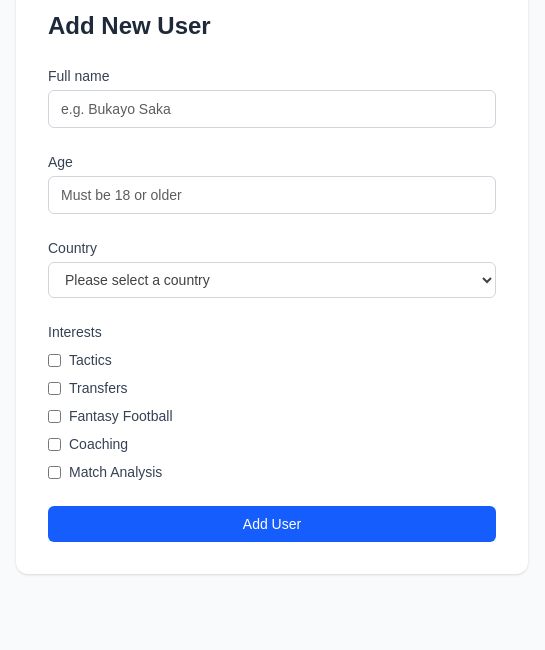
AddUserPage › shows validation errors when submitted empty
Click the button "Add User" at point(272, 524), box [48, 506, 496, 542]
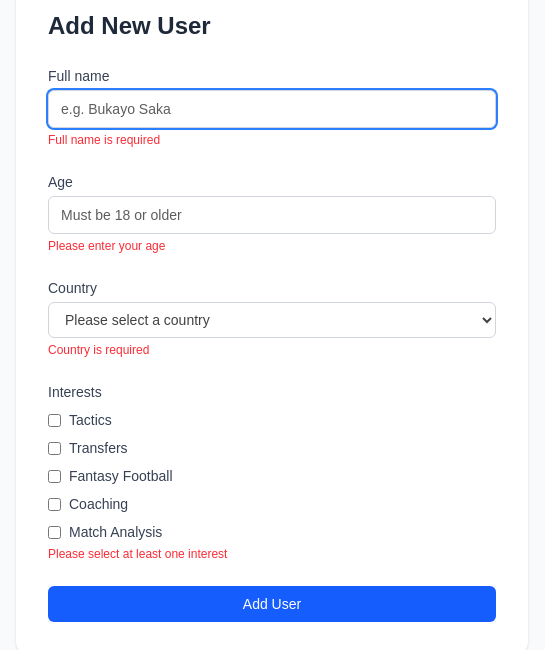
Result: the text "Full name is required" is shown at [48, 133, 160, 147]
Result: the text "Please enter your age" is shown at [48, 239, 165, 253]
Result: the text "Country is required" is shown at [48, 343, 149, 357]
